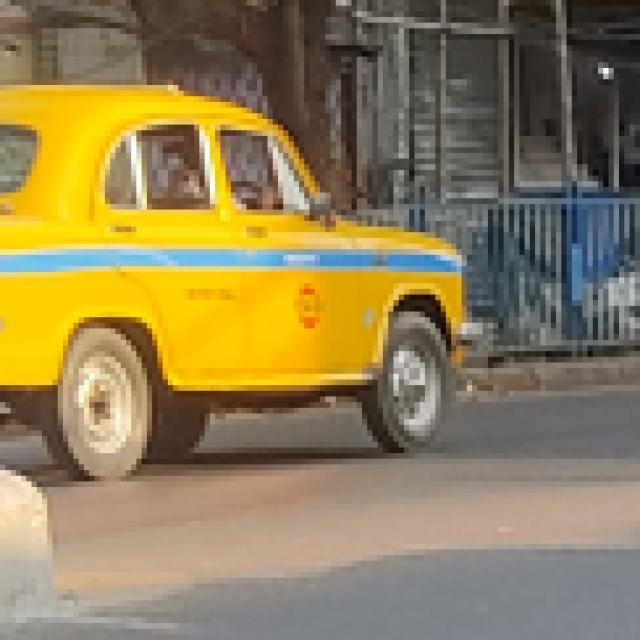ambasador_taxi: (0, 74, 472, 471)
